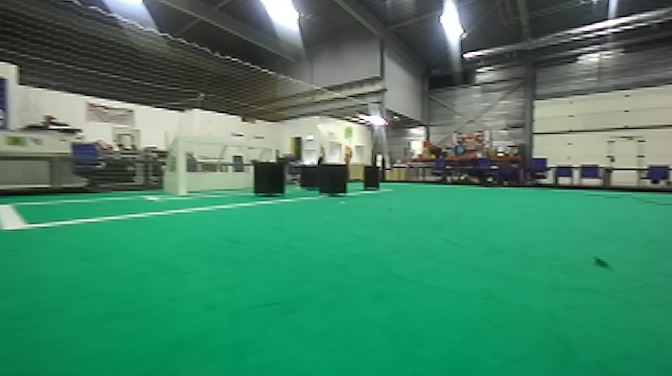goalpost: (177, 132, 189, 201), (269, 148, 276, 164)
